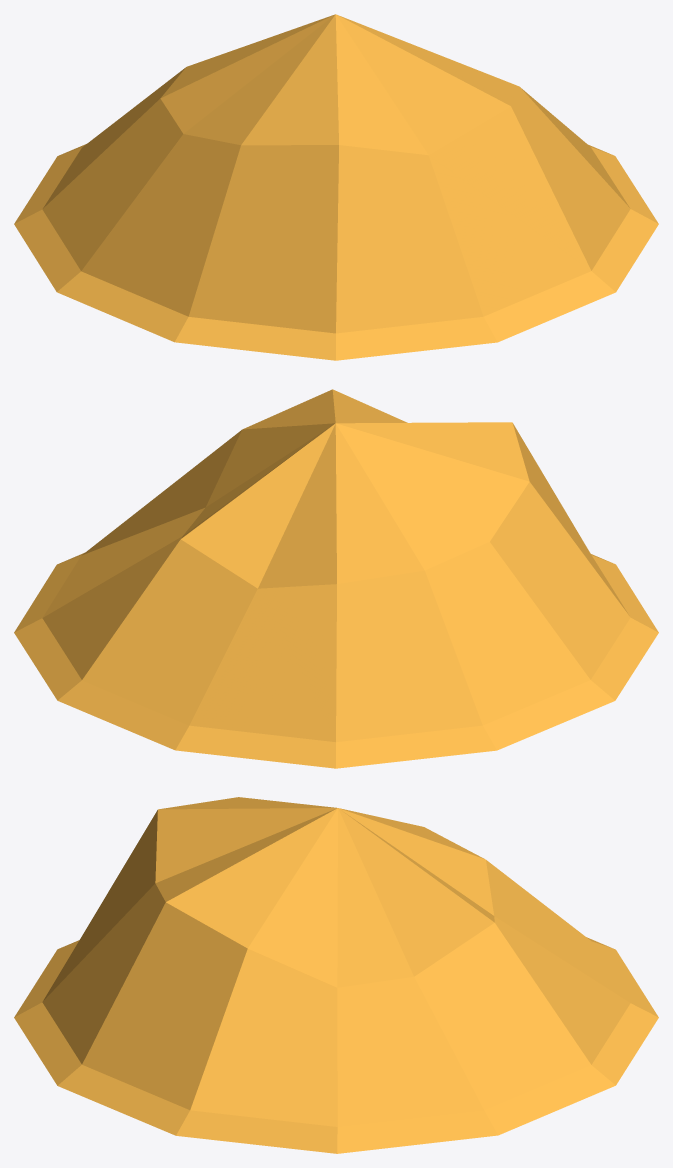
Rendered from Small Gold Pile.FBX.
3 views of the same model, one above another, from view 1: azimuth 30°, elevation 25°; view 2: azimuth 150°, elevation 25°; view 3: azimuth 270°, elevation 25° (orthographic).
Visible parts, largest first — view 1: Small Gold Pile; view 2: Small Gold Pile; view 3: Small Gold Pile.
Boxes of the visible parts, <box> form: Small Gold Pile: <box>14,14,658,360</box>; Small Gold Pile: <box>14,389,658,768</box>; Small Gold Pile: <box>14,797,658,1153</box>.
Size of the model in its own units: 3.38 by 1.21 by 3.38.
